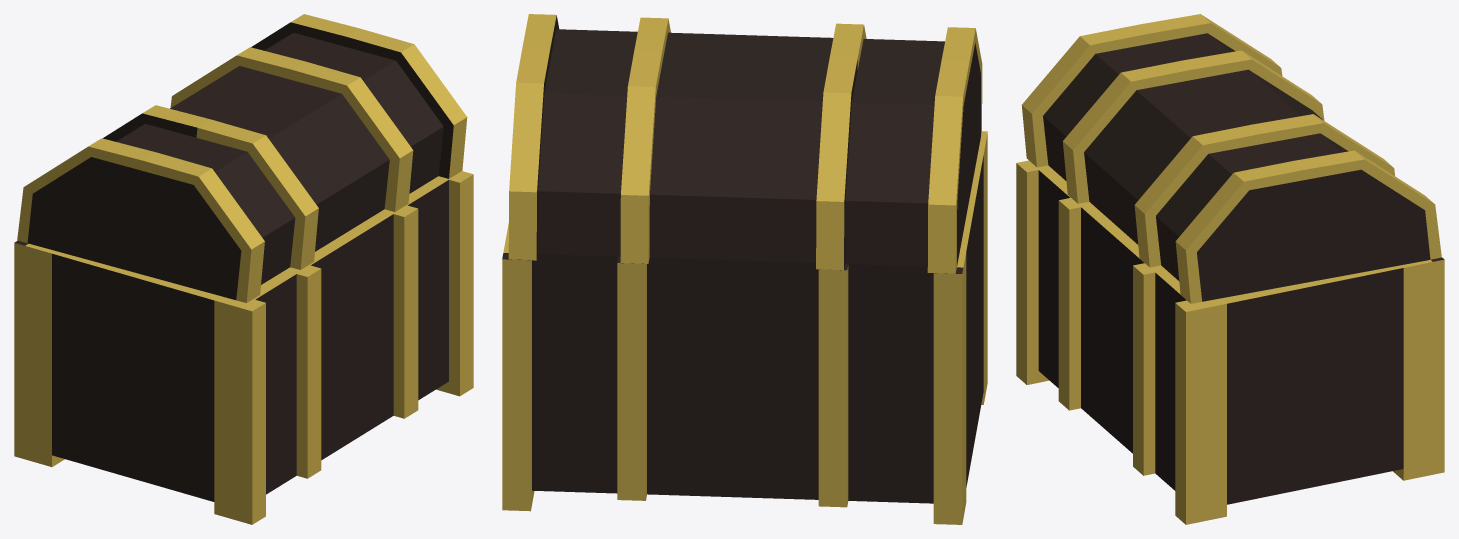
Rendered from chest opening.glb.
3 renders of one model, left to right at view 1: azimuth 30°, elevation 25°; view 2: azimuth 150°, elevation 25°; view 3: azimuth 270°, elevation 25°, orthographic. The views are drawn at different scales.
Parts seen in each view (by area): view 1: Chest, Lid; view 2: Chest, Lid; view 3: Chest, Lid.
Boxes of the visible parts, left/top/right/bottom form: Chest: left=14, top=171, right=473, bottom=524; Lid: left=17, top=14, right=467, bottom=302; Chest: left=502, top=131, right=987, bottom=524; Lid: left=508, top=14, right=982, bottom=273; Chest: left=1016, top=160, right=1444, bottom=524; Lid: left=1021, top=14, right=1441, bottom=303.
Size of the model in its own units: 3.66 by 2.78 by 3.28.
